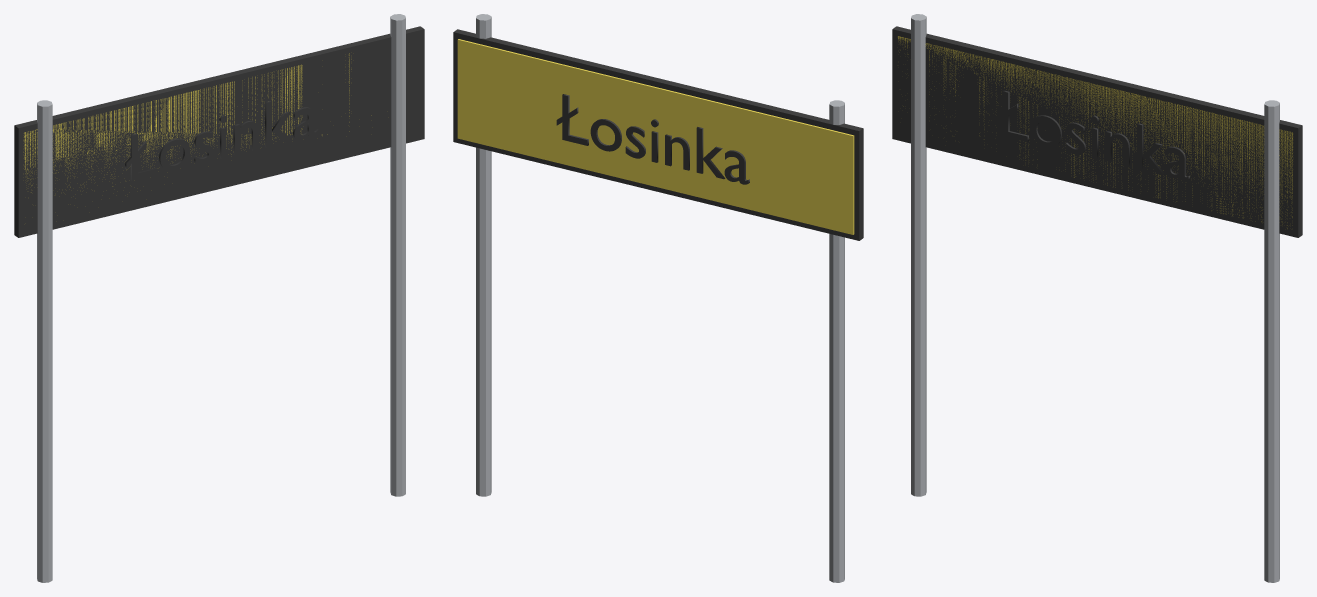
The model's file is Tablica_Losinka.fbx.
3 renders of one model, left to right at view 1: azimuth 30°, elevation 25°; view 2: azimuth 150°, elevation 25°; view 3: azimuth 330°, elevation 25°, orthographic.
Parts seen in each view (by area): view 1: Tablica_Losinka; view 2: Tablica_Losinka; view 3: Tablica_Losinka.
Boxes of the visible parts, <box> form: Tablica_Losinka: <box>14,14,424,582</box>; Tablica_Losinka: <box>453,14,863,582</box>; Tablica_Losinka: <box>892,14,1302,582</box>.
Size of the model in its own units: 2.32 by 2.6 by 0.108.
